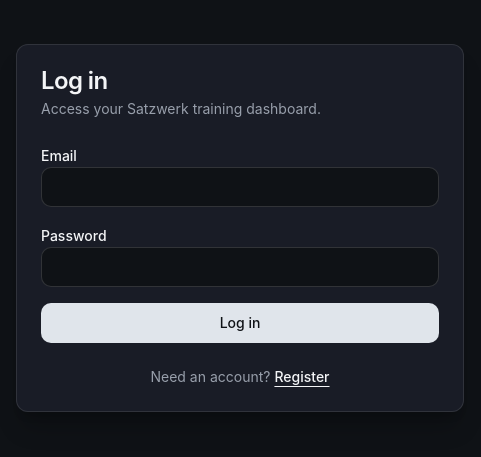
Test: LoginPage › shows validation error for invalid email
The image size is (481, 457).
Type "not-an-email" into the field labelled "Email" at (240, 187), box [41, 167, 439, 207]
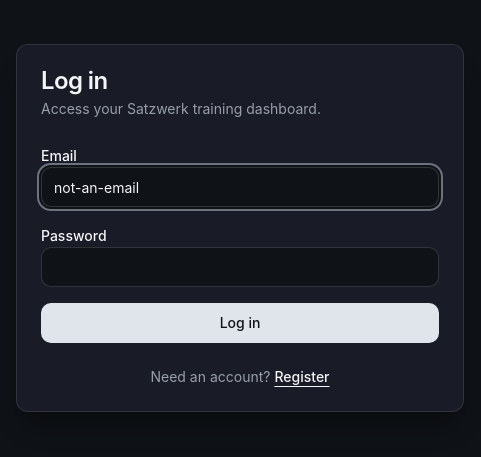
Click the button "Log in" at (240, 323), box [41, 303, 439, 343]
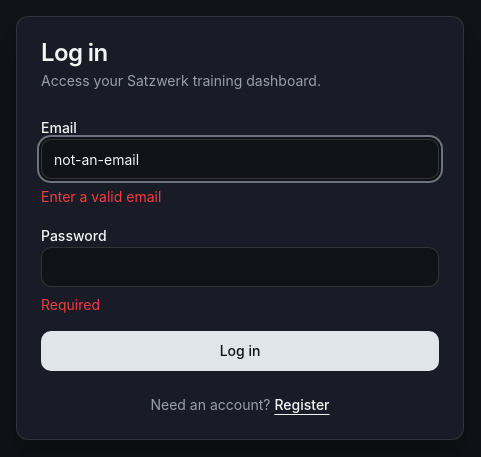
Check: the text "Enter a valid email" is shown, box [41, 188, 161, 205]
